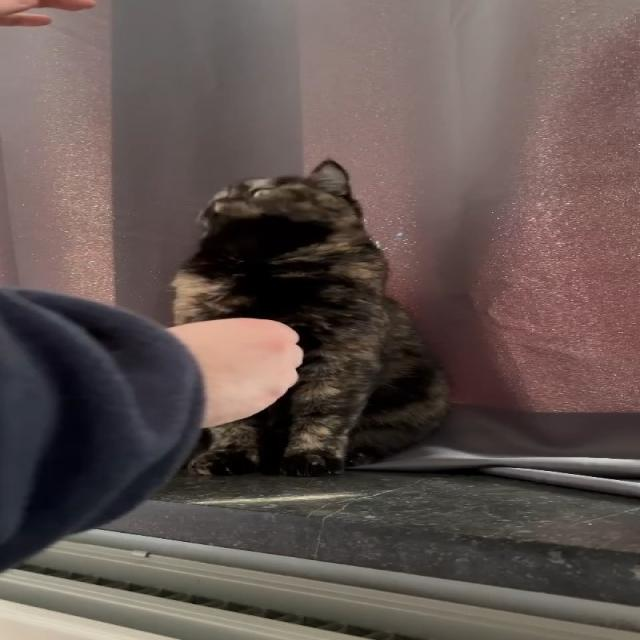authorized: (168, 158, 452, 477)
